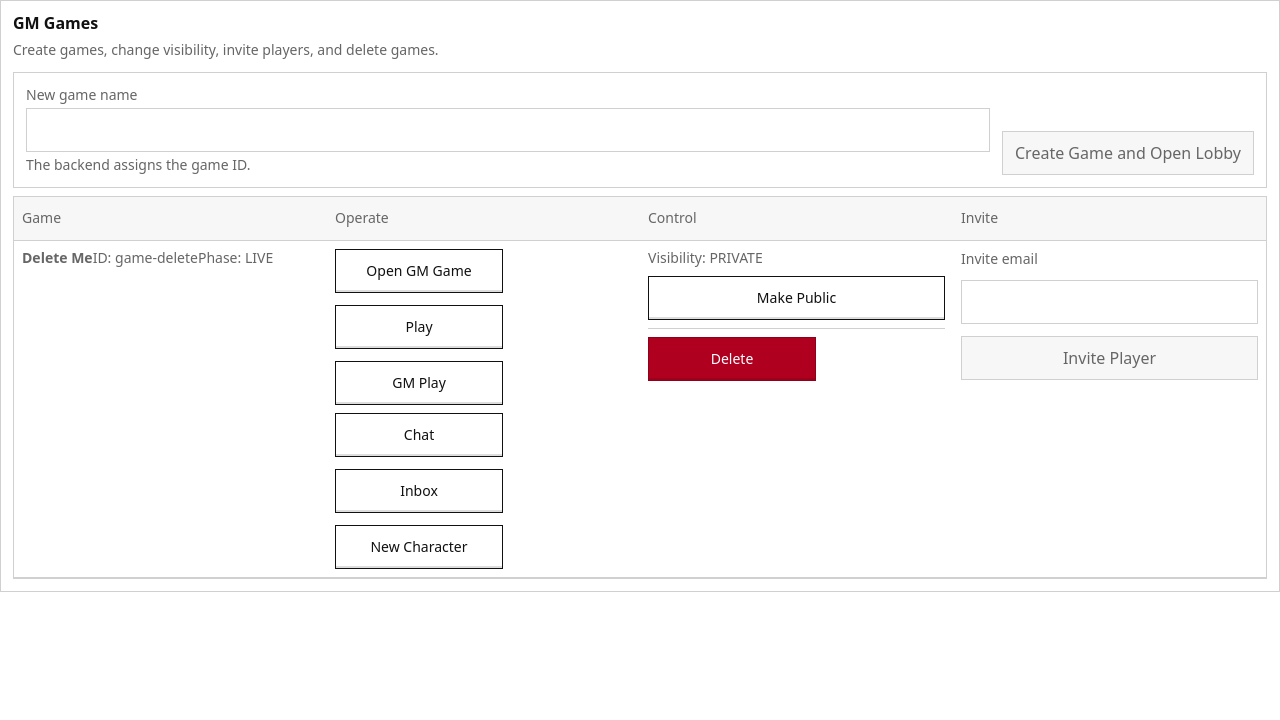
Test: GMGamesPage › submits ArchiveGame and removes the row after deleting a game
The width and height of the screenshot is (1280, 720).
Expected: the text "Delete Me" is shown, [22,249,93,268]
Expected: the text "Phase: LIVE" is shown, [198,249,273,268]
Click the button "Delete".
click(732, 359)  # box [648,337,816,381]
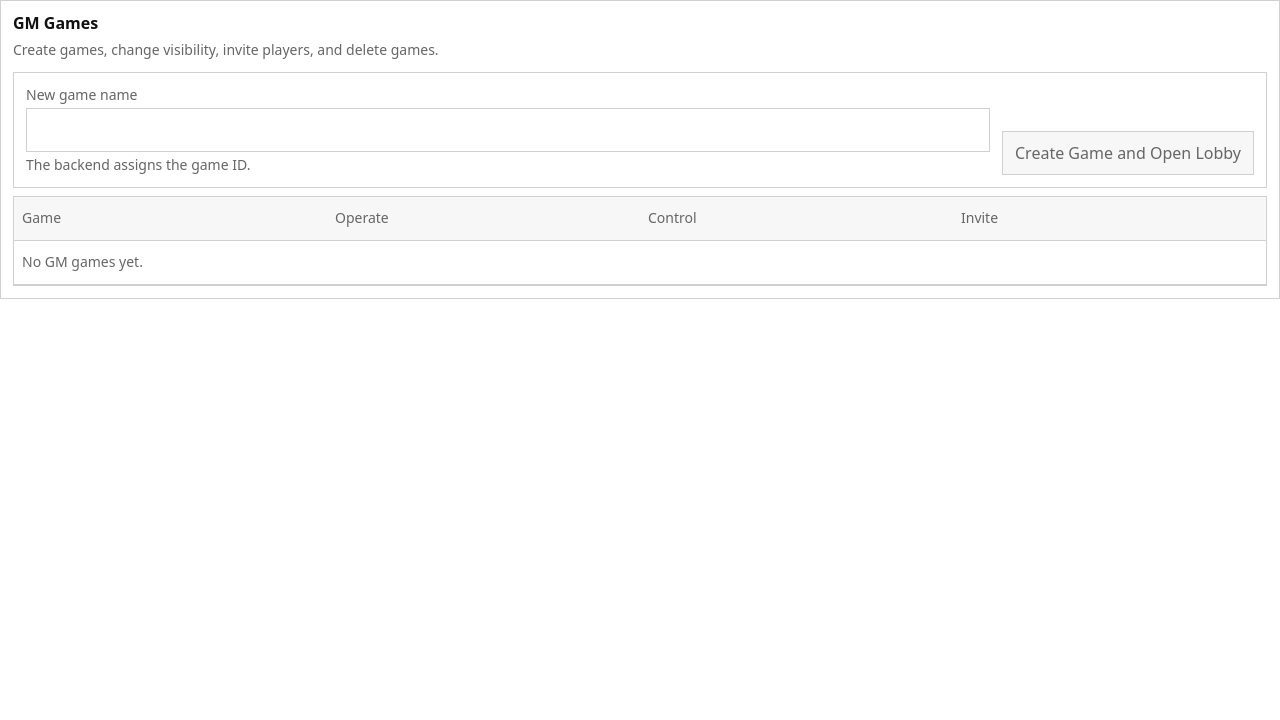
Result: the text "No GM games yet." is shown at [22,252,143,271]
Result: the text "Delete Me" is gone
